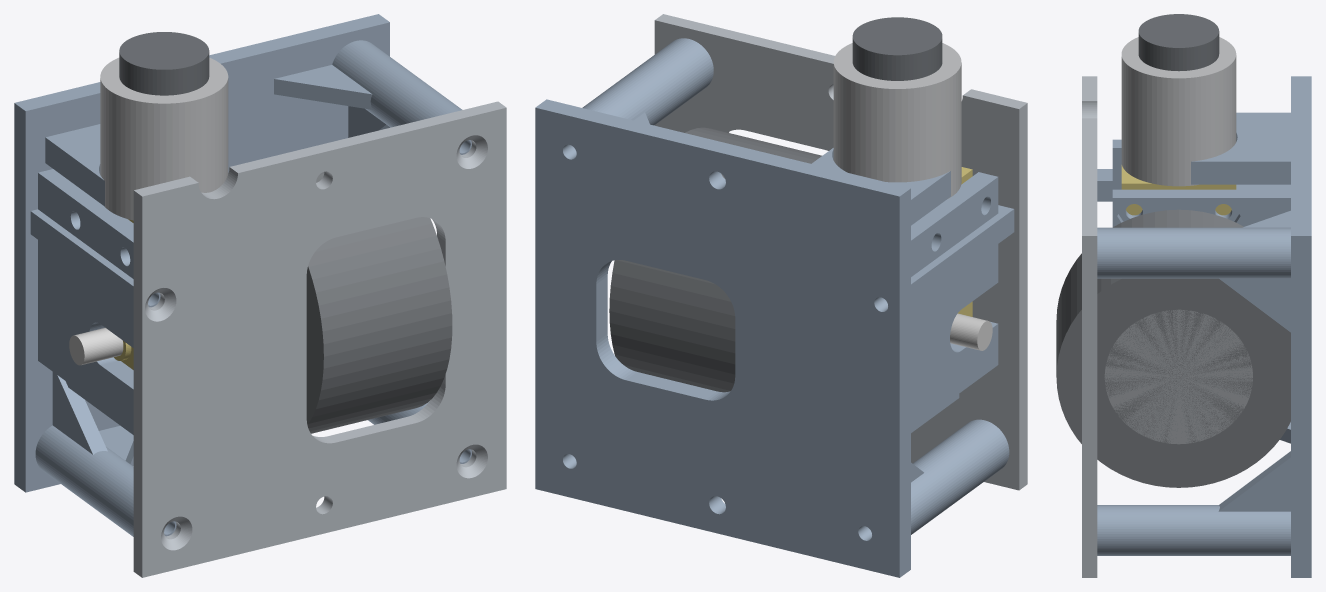
Rendered from soporte_tt_mecanum_ensamble.glb.
3 renders of one model, left to right at view 1: azimuth 30°, elevation 25°; view 2: azimuth 150°, elevation 25°; view 3: azimuth 270°, elevation 25°, orthographic. The views are drawn at different scales.
Visible parts, largest first — view 1: geometry_0; view 2: geometry_0; view 3: geometry_0.
Part boxes in pixels (x1,y1,x2,y2): geometry_0: (14, 14, 506, 577); geometry_0: (535, 14, 1027, 577); geometry_0: (1056, 14, 1311, 577).
Bounding box in the file's own units: 76.3 × 91 × 50.
